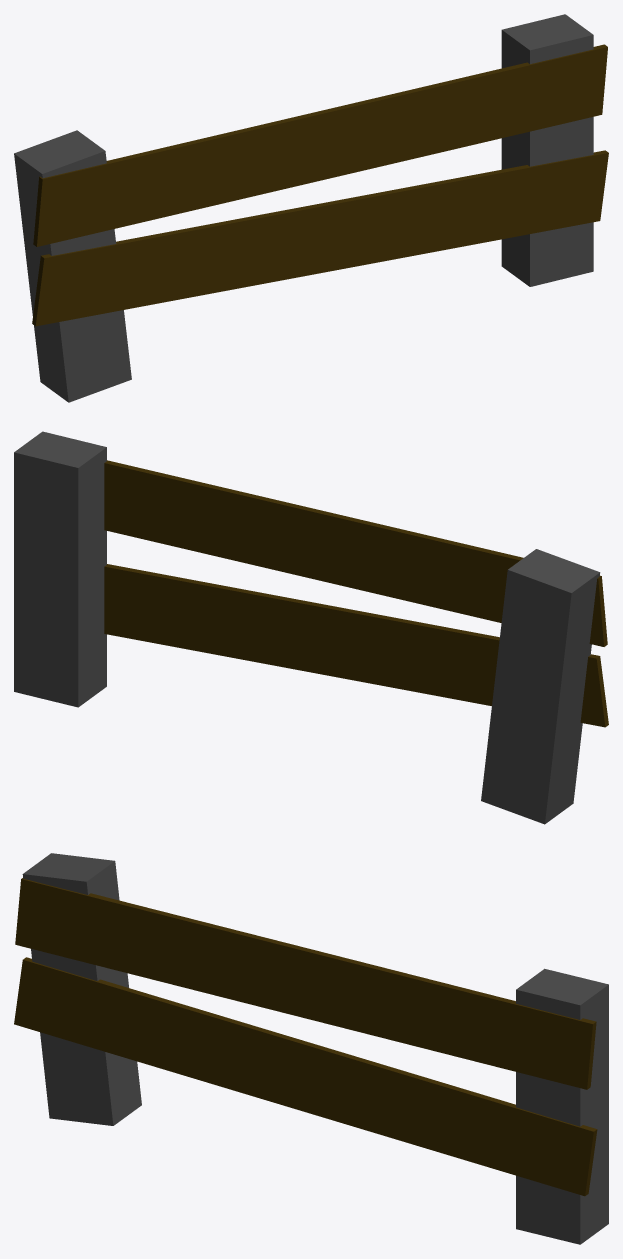
File: Fence3.fbx
3 views of the same model, one above another, from view 1: azimuth 30°, elevation 25°; view 2: azimuth 150°, elevation 25°; view 3: azimuth 330°, elevation 25° (orthographic).
Parts seen in each view (by area): view 1: Cube.002, Cube; view 2: Cube.002, Cube; view 3: Cube.002, Cube.
Part boxes in pixels (x1=…): Cube.002: x1=32, y1=44, x2=608, y2=326; Cube: x1=14, y1=14, x2=593, y2=402; Cube.002: x1=104, y1=460, x2=608, y2=727; Cube: x1=14, y1=431, x2=600, y2=824; Cube.002: x1=14, y1=878, x2=597, y2=1196; Cube: x1=22, y1=853, x2=608, y2=1244.
Bounding box in the file's own units: 507 × 205 × 44.84.
